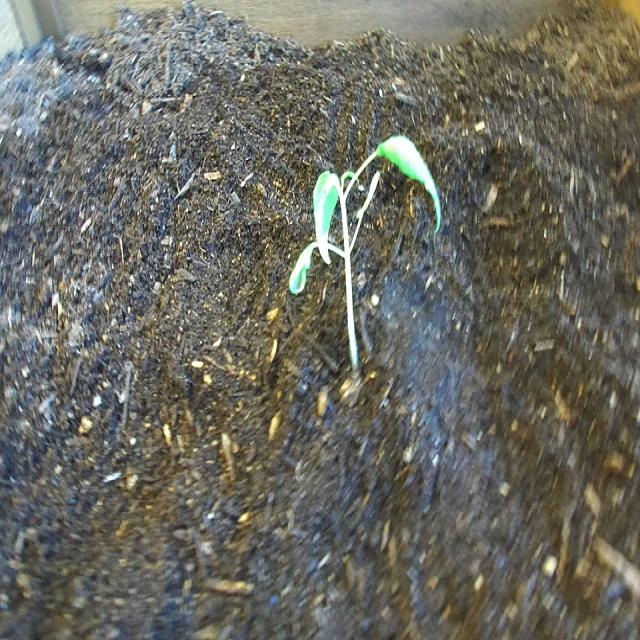Healthy: (275, 111, 448, 393)
